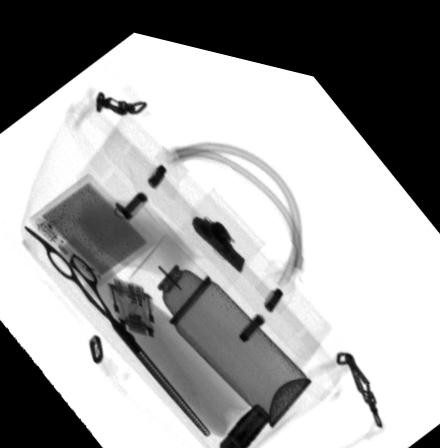Lighter: (218, 390, 271, 448)
Powerbank: (28, 168, 155, 282)
Scissors: (20, 222, 211, 428)
Sprayer: (125, 224, 310, 416)
